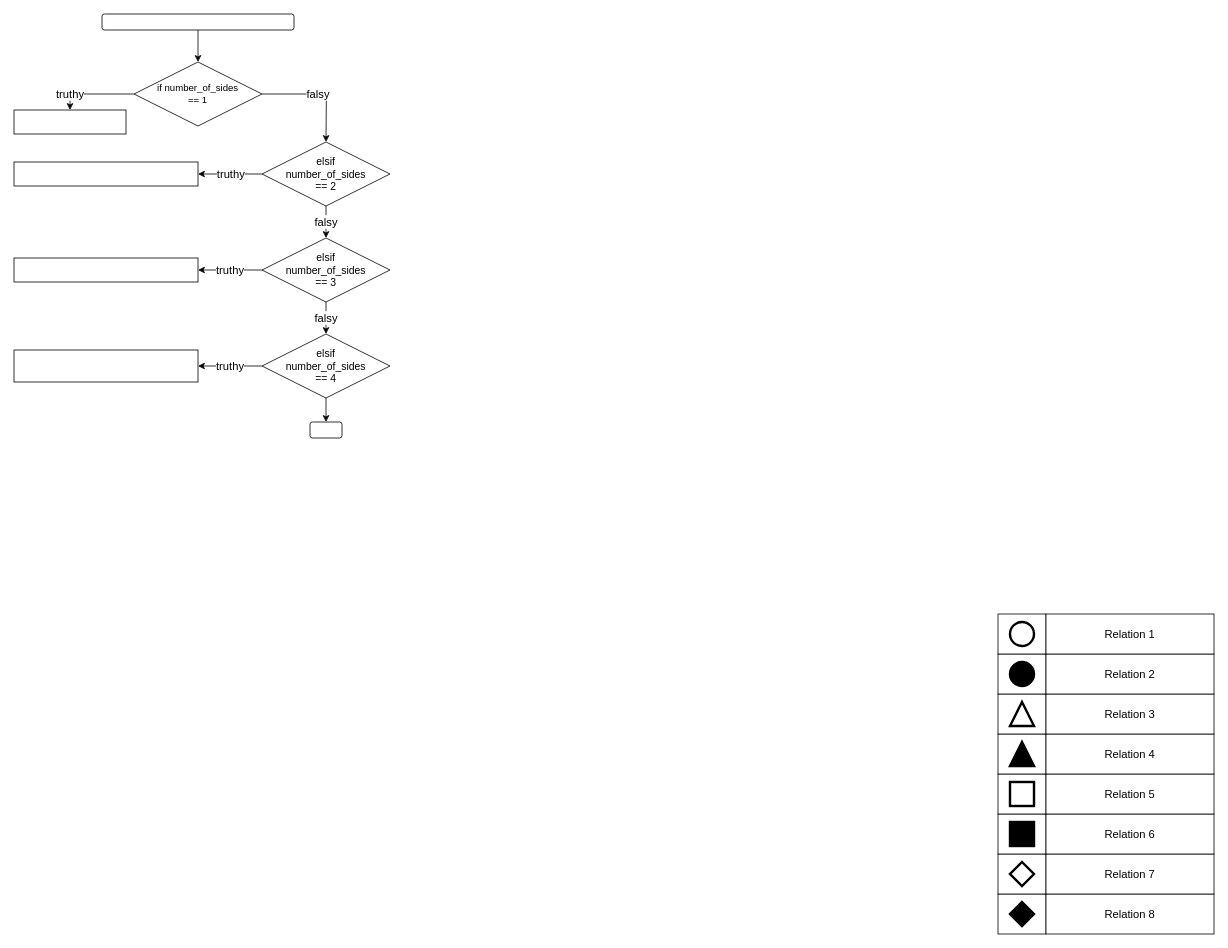
Image size: 1228x948. Some labels were removed from this diagram. Here are the shapes that lost their labels. From the top down, the centre of each, then its label:
the point at 197,21: number_of_sides = gets.chomp
the point at 69,121: print "You've got a line"
the point at 105,173: print "I'm not really sure what you have"
the point at 105,269: print "You've got a triangle"
the point at 105,365: print "You've got some sort of quadrilateral"
the point at 325,429: end
